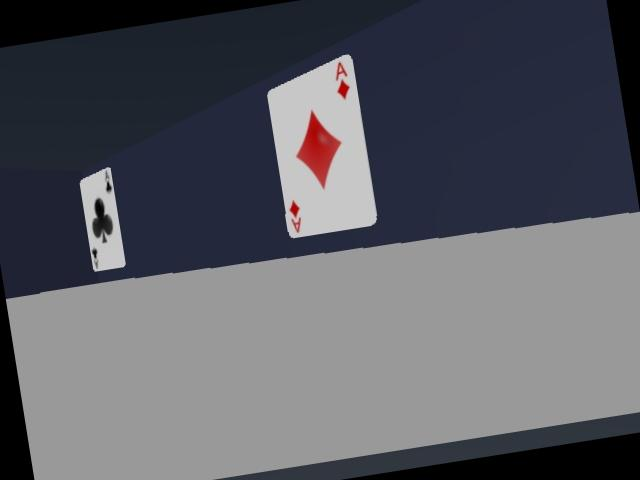club: (80, 168, 125, 271)
diamond: (267, 55, 376, 237)
